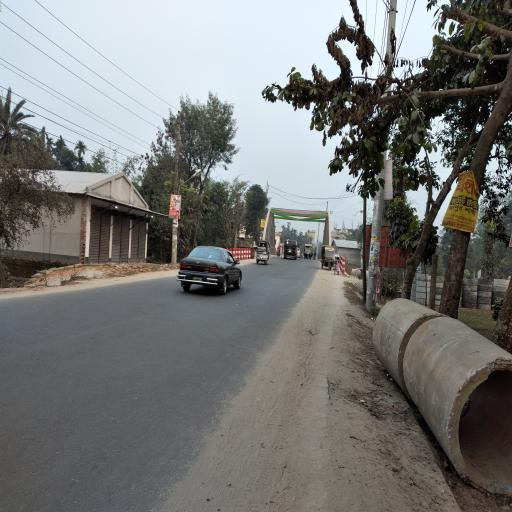auto rickshaw: (257, 240, 271, 266), (322, 246, 335, 272), (305, 244, 313, 262)
bicycle: (334, 259, 338, 276), (277, 250, 282, 258), (314, 252, 318, 261)
car: (177, 246, 244, 296), (298, 249, 302, 259)
minivan: (284, 240, 298, 261)
